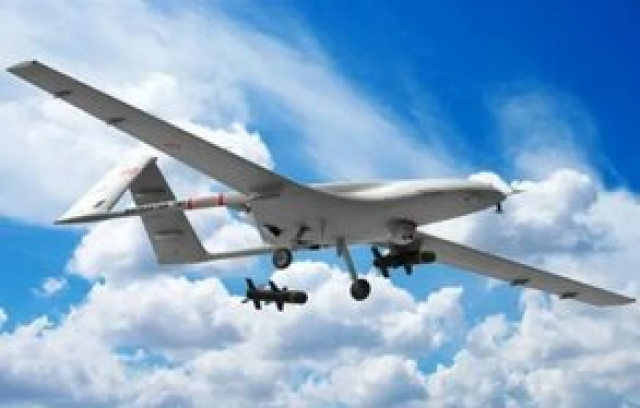military drone: (6, 59, 637, 308)
